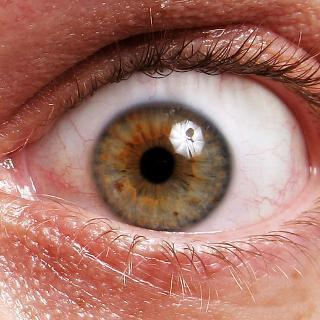iris: (90, 97, 228, 235)
